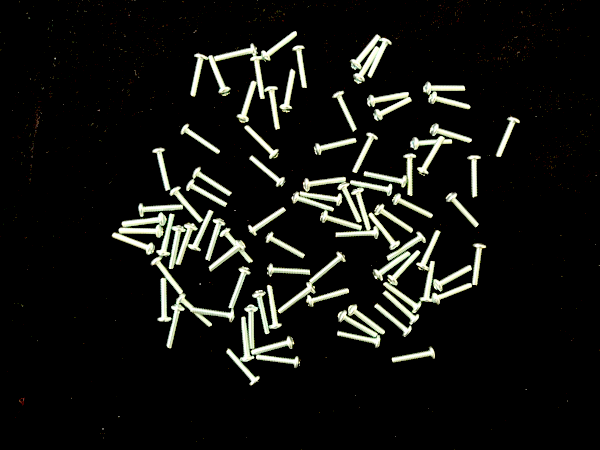longscrew: (178, 293, 217, 334), (151, 256, 186, 298), (224, 347, 259, 387), (383, 233, 428, 263), (281, 281, 317, 317), (414, 137, 448, 175), (246, 155, 285, 188), (446, 192, 479, 231), (267, 228, 309, 258), (387, 251, 423, 286), (347, 305, 389, 334), (373, 307, 415, 336), (192, 166, 230, 198), (187, 180, 225, 212), (242, 126, 280, 158), (371, 252, 416, 279), (207, 243, 249, 271), (331, 93, 359, 135), (251, 204, 287, 236), (375, 205, 416, 233), (369, 212, 400, 249), (199, 218, 225, 262), (336, 311, 378, 338), (264, 28, 299, 60), (351, 134, 379, 174), (382, 282, 421, 310), (184, 123, 218, 155), (220, 230, 255, 261), (380, 293, 418, 321), (414, 229, 442, 267), (314, 252, 346, 285), (186, 211, 213, 250), (366, 39, 393, 77), (250, 333, 294, 356), (375, 97, 411, 125), (351, 33, 378, 70), (355, 45, 382, 82), (140, 199, 182, 222), (337, 223, 379, 246), (120, 222, 163, 244), (122, 208, 165, 230), (319, 209, 362, 231), (299, 188, 342, 210), (314, 136, 357, 158), (351, 176, 394, 198), (363, 166, 406, 188), (498, 117, 521, 158), (111, 234, 153, 256), (293, 194, 335, 216), (305, 172, 347, 194), (215, 42, 259, 63), (393, 196, 434, 218), (239, 75, 257, 124), (210, 49, 228, 98), (468, 151, 486, 200), (471, 242, 489, 291), (155, 277, 173, 326), (166, 220, 184, 269), (428, 124, 477, 142), (408, 132, 457, 150), (390, 349, 439, 367), (335, 330, 384, 348), (178, 221, 196, 269), (159, 210, 177, 258), (418, 262, 439, 302), (307, 289, 354, 306), (369, 90, 411, 109), (230, 267, 248, 311), (153, 144, 169, 192), (190, 52, 206, 100), (296, 42, 312, 90), (431, 284, 469, 304), (433, 269, 471, 289), (280, 66, 296, 113), (404, 151, 419, 200), (252, 55, 267, 103), (266, 86, 281, 133), (237, 318, 253, 362), (244, 307, 260, 351), (253, 289, 269, 333), (266, 266, 315, 280), (266, 285, 281, 329), (169, 306, 184, 350), (426, 96, 473, 109), (423, 80, 470, 93), (194, 308, 233, 321), (256, 357, 304, 366)
